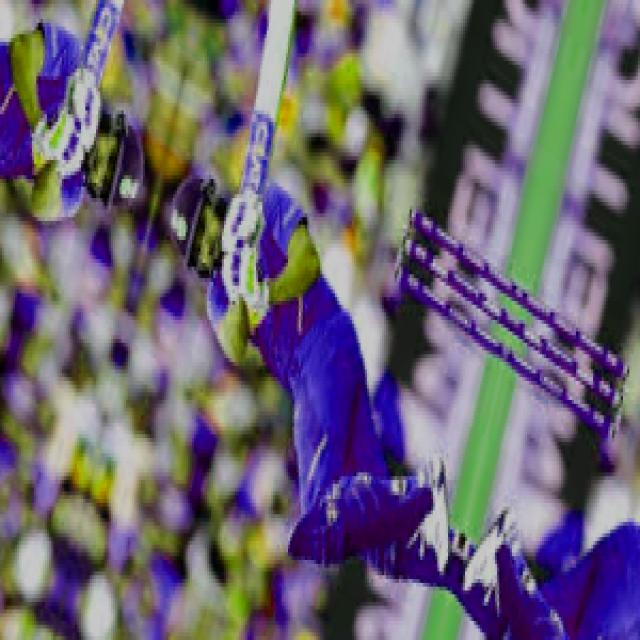toe: (264, 0, 298, 50)
